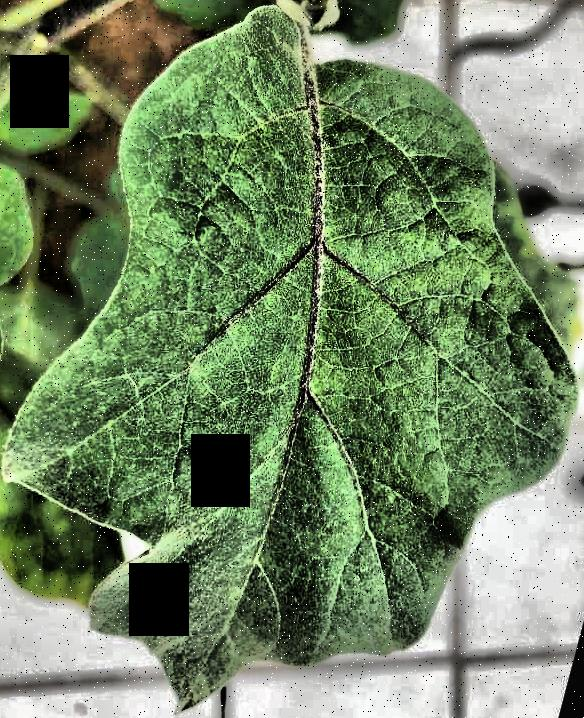HEALTHY: (1, 1, 584, 718)
